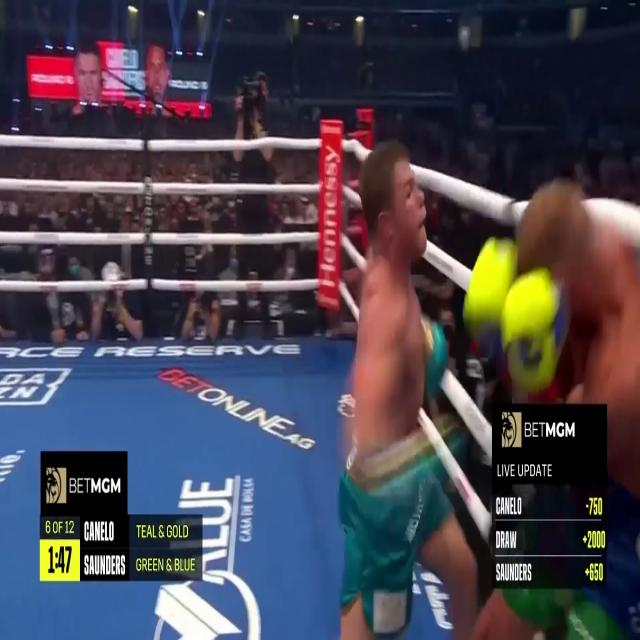boxer_1: (517, 181, 640, 498)
boxer_2: (354, 149, 427, 450)
gloves_1: (464, 238, 567, 403)
gloves_2: (371, 414, 469, 491), (426, 324, 448, 392)
